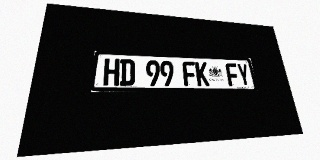9: (146, 60, 161, 86), (160, 60, 175, 86)
D: (119, 59, 135, 86)
F: (182, 61, 197, 86), (225, 63, 240, 86)
H: (103, 58, 120, 86)
K: (195, 62, 210, 86)
Y: (236, 63, 251, 86)
